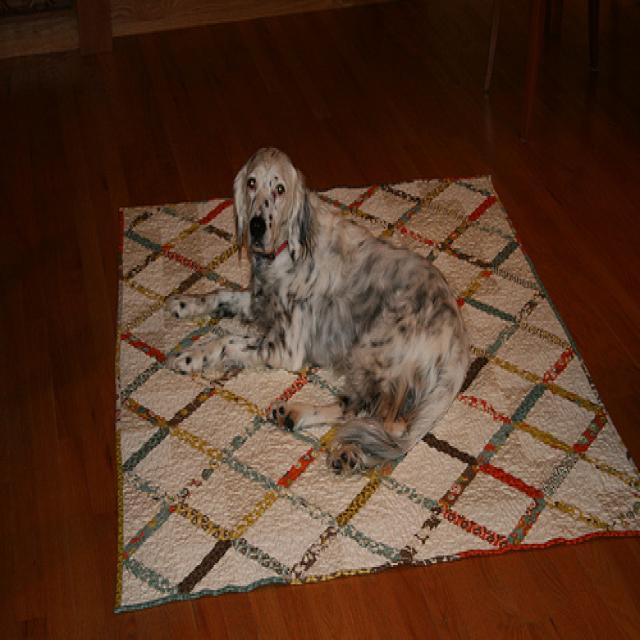dog-english_setter: (159, 140, 477, 482)
